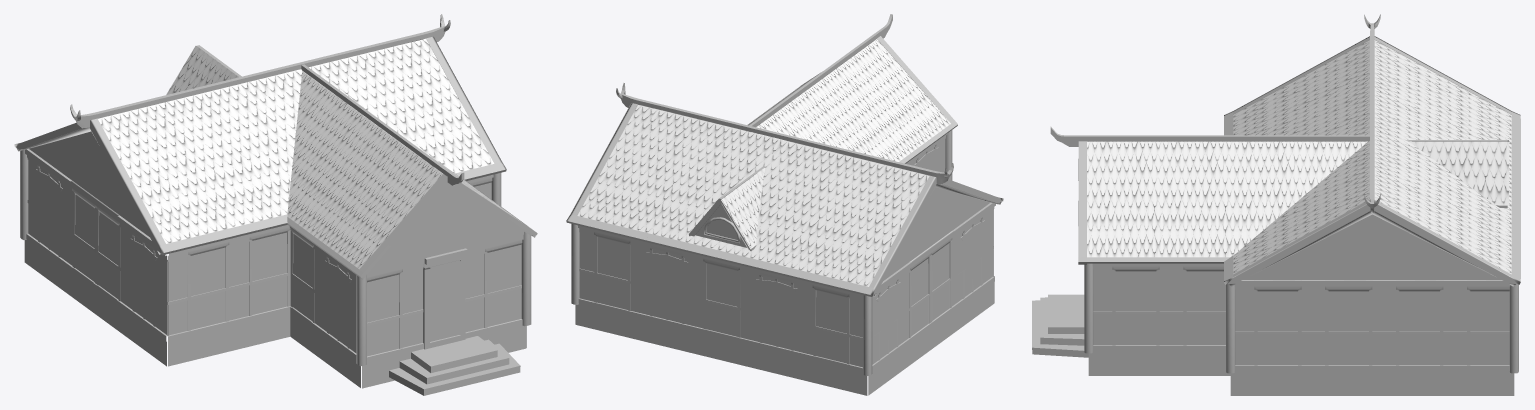
The model's file is house_L.fbx.
3 views of the same model, side by side, from view 1: azimuth 30°, elevation 25°; view 2: azimuth 150°, elevation 25°; view 3: azimuth 270°, elevation 25° (orthographic). The views are drawn at different scales.
Parts seen in each view (by area): view 1: houseMesh, roofMesh, houseBase_mesh; view 2: houseMesh, roofMesh, houseBase_mesh; view 3: houseMesh, roofMesh, houseBase_mesh.
Part boxes in pixels (box(x1,y1,x2,y2)): houseMesh: box(14, 14, 537, 395); roofMesh: box(97, 38, 521, 269); houseBase_mesh: box(24, 240, 526, 388); houseMesh: box(566, 14, 1003, 375); roofMesh: box(577, 39, 950, 286); houseBase_mesh: box(575, 282, 994, 395); houseMesh: box(1032, 14, 1520, 373); roofMesh: box(1087, 40, 1511, 274); houseBase_mesh: box(1088, 351, 1514, 395).
Bounding box in the file's own units: 72.6 × 39.47 × 82.69.
